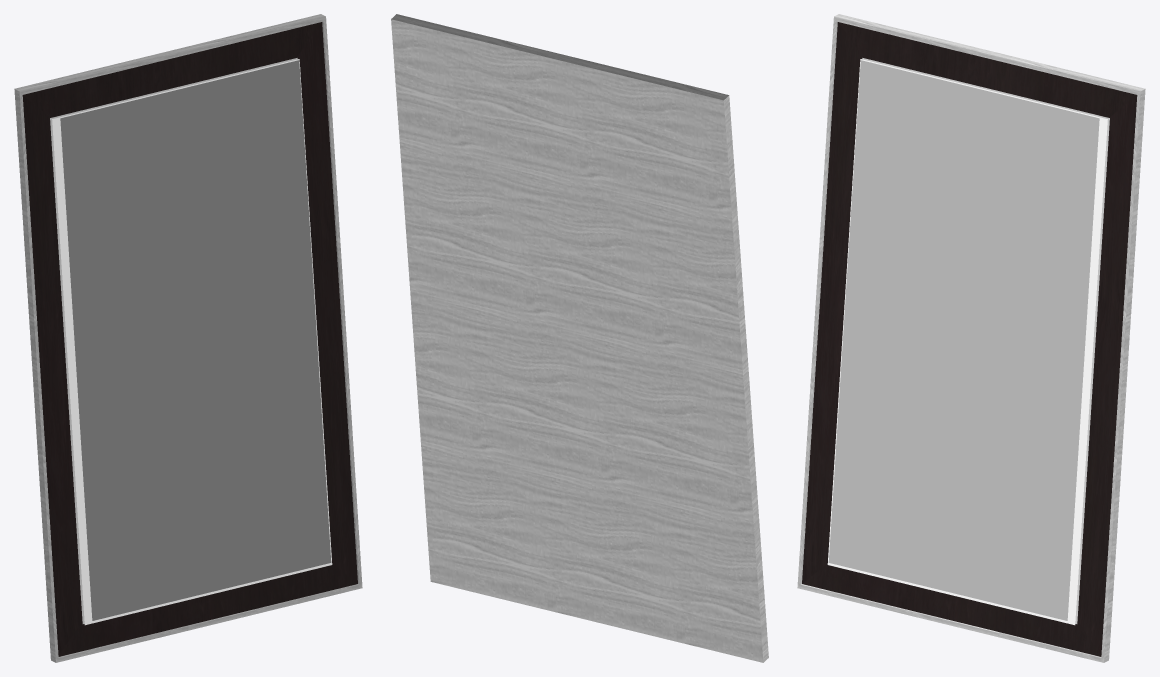
Rendered from Mirror_6aa33733.obj.
3 views of the same model, side by side, from view 1: azimuth 30°, elevation 25°; view 2: azimuth 150°, elevation 25°; view 3: azimuth 330°, elevation 25° (orthographic). The views are drawn at different scales.
Parts seen in each view (by area): view 1: QuadDecalSpawnPlane_a3b8d99d, FP215:Cube.1043_1f35b16b, MirrorDecals_5ee8059f, MirrorReflection_43007369; view 2: FP215:Cube.1043_1f35b16b; view 3: QuadDecalSpawnPlane_a3b8d99d, FP215:Cube.1043_1f35b16b, MirrorDecals_5ee8059f, MirrorReflection_43007369.
Part boxes in pixels (<box>): QuadDecalSpawnPlane_a3b8d99d: <box>60,60,331,620</box>; FP215:Cube.1043_1f35b16b: <box>14,14,362,662</box>; MirrorDecals_5ee8059f: <box>52,59,332,625</box>; MirrorReflection_43007369: <box>50,58,297,623</box>; FP215:Cube.1043_1f35b16b: <box>391,14,768,662</box>; QuadDecalSpawnPlane_a3b8d99d: <box>828,60,1099,620</box>; FP215:Cube.1043_1f35b16b: <box>797,14,1145,662</box>; MirrorDecals_5ee8059f: <box>827,59,1107,625</box>; MirrorReflection_43007369: <box>862,58,1109,623</box>.
Size of the model in its own units: 0.8364 by 1.42 by 0.2086.
